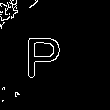P_N: (33, 30, 71, 80)
